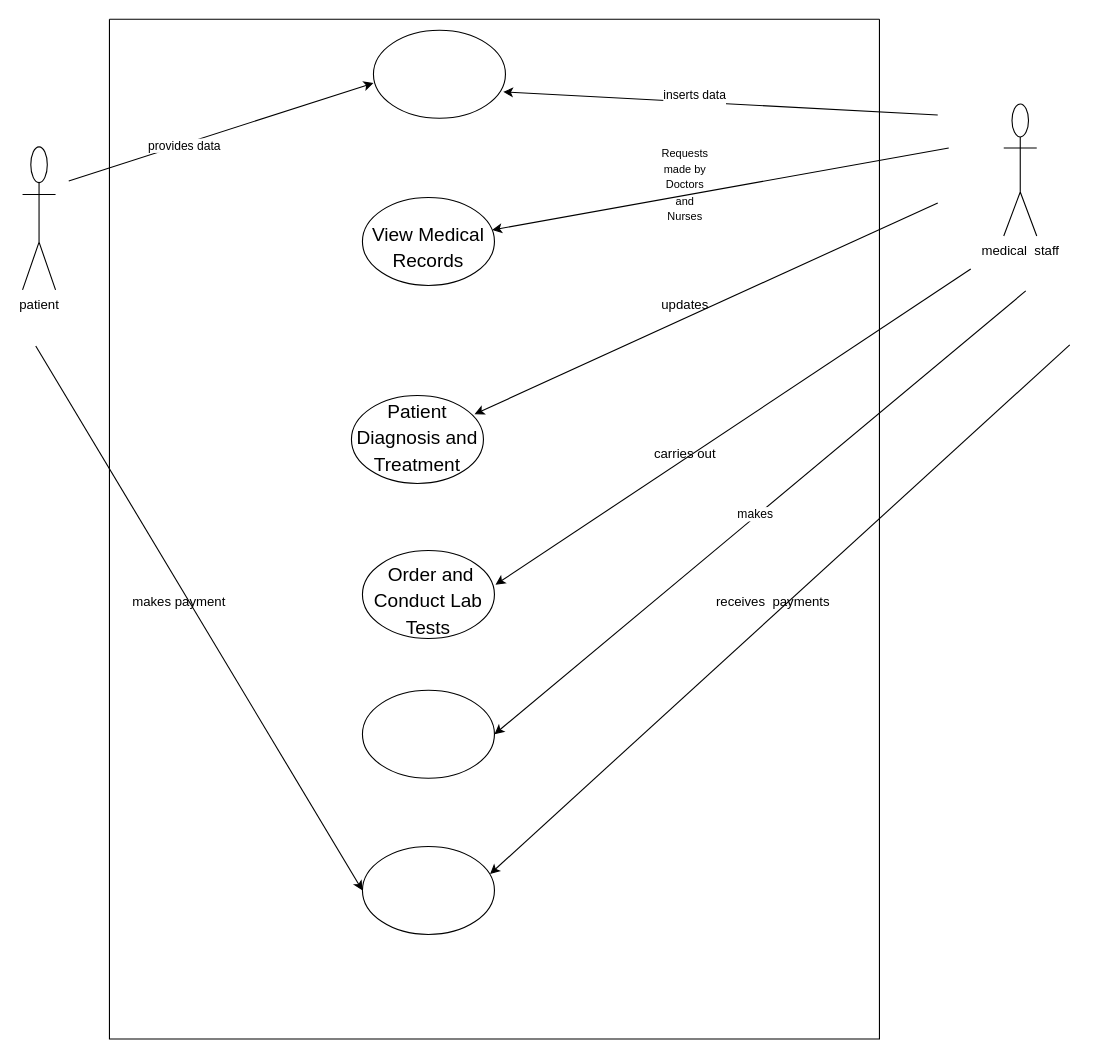
The diagram is 1098 pixels wide and 1058 high, and some of its shapes have lost their labels. Here are the shapes that lost their labels. From the top down, the box of each, then its label:
(372, 29, 505, 118): Patient Registration
(361, 689, 494, 778): Prescription Management
(361, 845, 494, 934): Billing and Payment Processing
